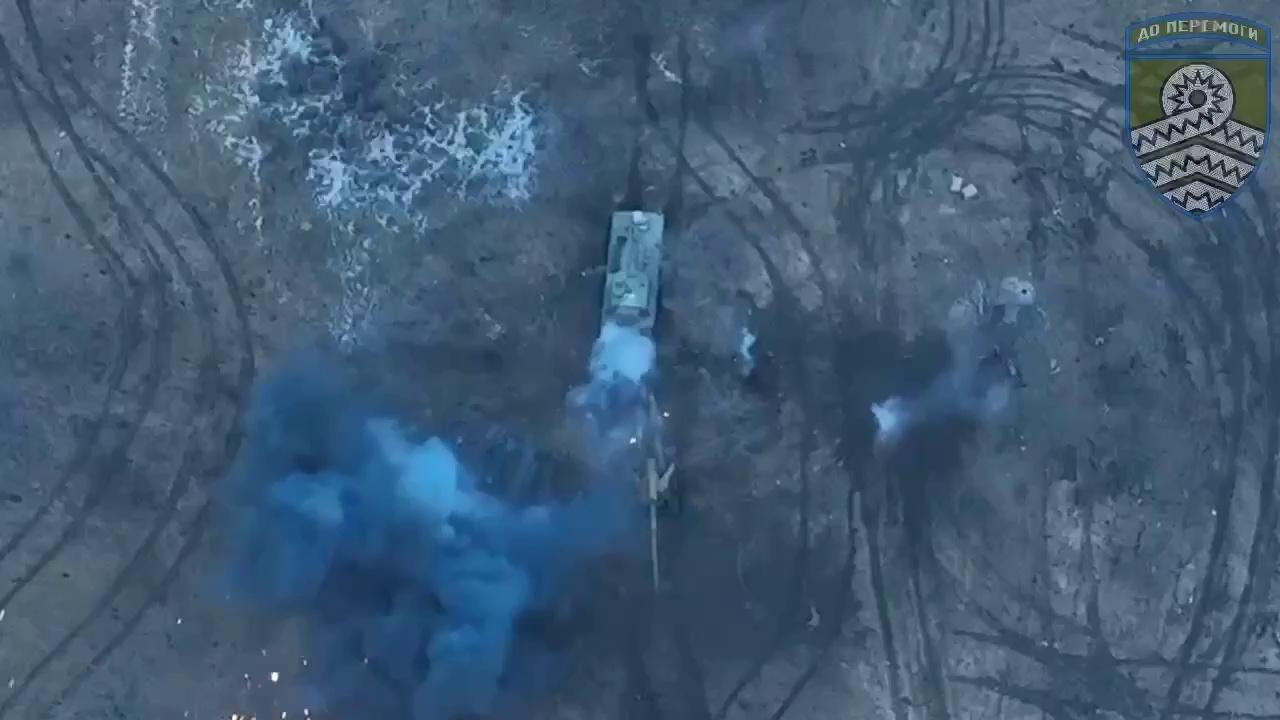vehicle: (598, 209, 664, 356), (637, 436, 681, 596)
